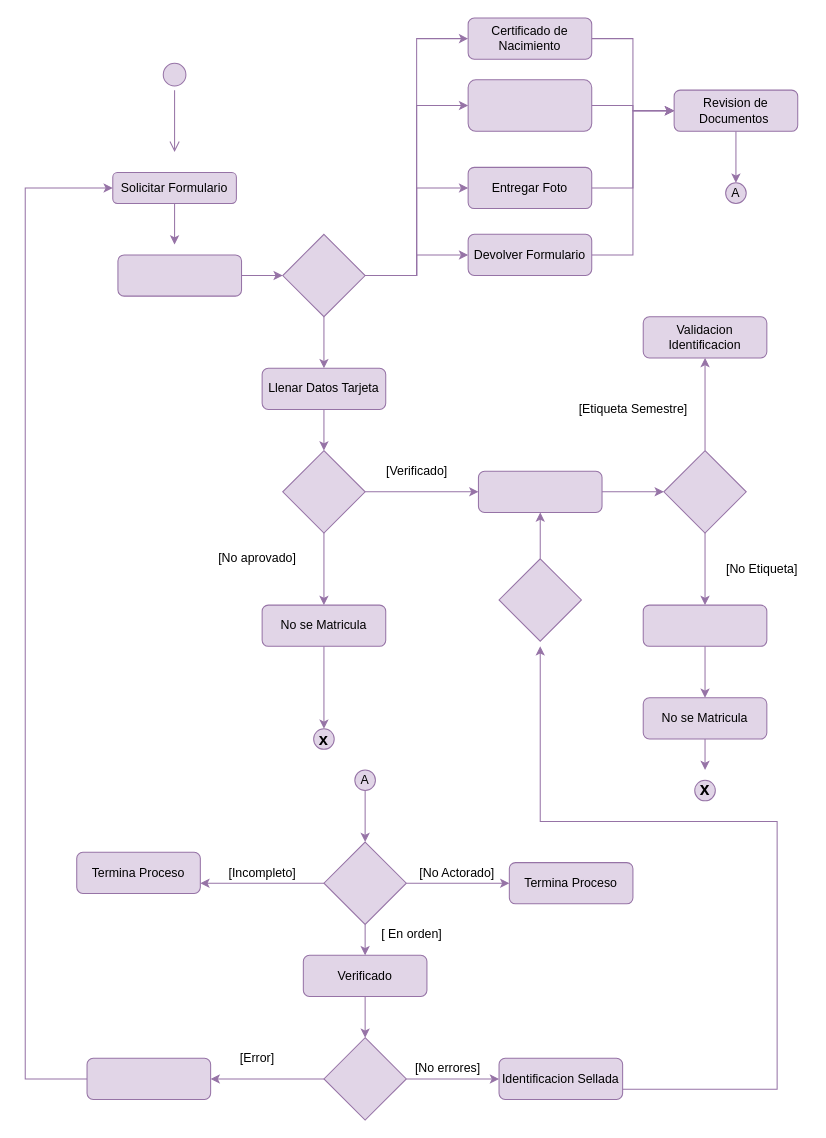
Some shapes in this 826 by 1138 pixel diagram are drawn without their labels. The centre of each missing label's shape, as x and y in pixels:
"Certificado de Finalizacion de Estudios" belongs at (x=529, y=105).
"Confirmacion Sello" belongs at (x=539, y=491).
"Destruye Identificacion" belongs at (x=148, y=1078).
"Llenar Formulario" belongs at (x=179, y=275).
"No Validacion" belongs at (x=704, y=625).
